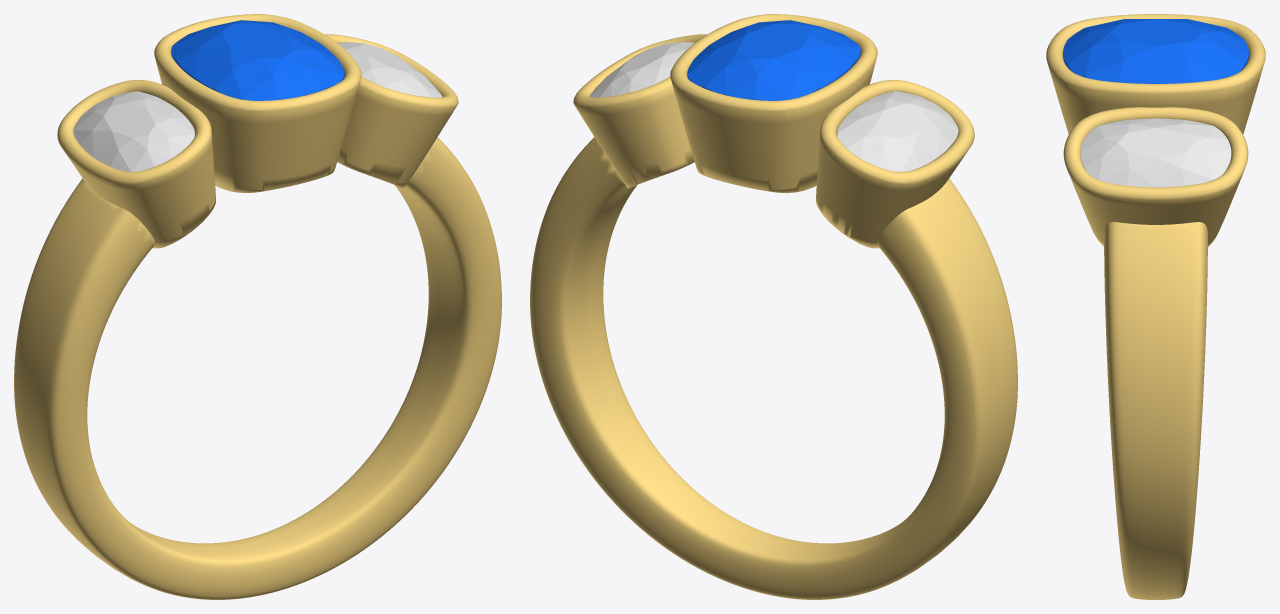
File: bluesapphire-cushion-yellowgold-bezelset-straighttaperedband-3stone.glb
The picture shows the model from 3 angles, left to right: view 1: azimuth 30°, elevation 25°; view 2: azimuth 150°, elevation 25°; view 3: azimuth 270°, elevation 25°; orthographic projection.
Parts seen in each view (by area): view 1: metal.002, stone.001, side.002, side.003; view 2: metal.002, stone.001, side.002, side.003; view 3: metal.002, stone.001, side.003.
Part boxes in pixels (x1,y1,x2,y2): metal.002: [14, 14, 501, 599]; stone.001: [171, 20, 344, 100]; side.002: [73, 91, 194, 171]; side.003: [337, 42, 442, 97]; metal.002: [530, 14, 1017, 599]; stone.001: [687, 20, 860, 100]; side.002: [837, 91, 958, 171]; side.003: [589, 42, 694, 97]; metal.002: [1046, 14, 1265, 599]; stone.001: [1063, 19, 1248, 83]; side.003: [1080, 118, 1231, 187].
Size of the model in its own units: 20.11 by 23.04 by 8.45.
